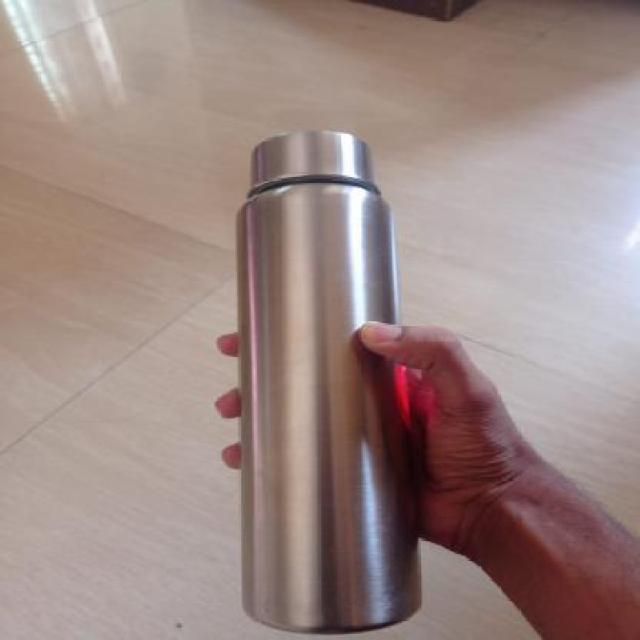bottle: (236, 122, 425, 640)
